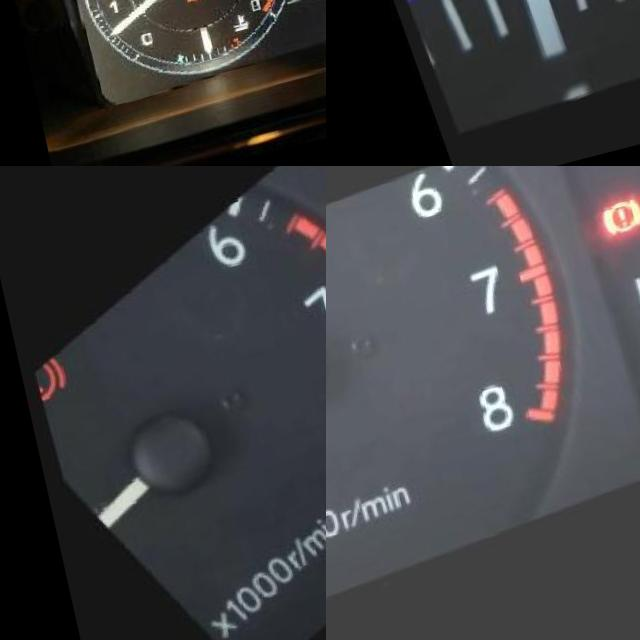High Engine Coolant Temperature: (211, 23, 230, 42)
